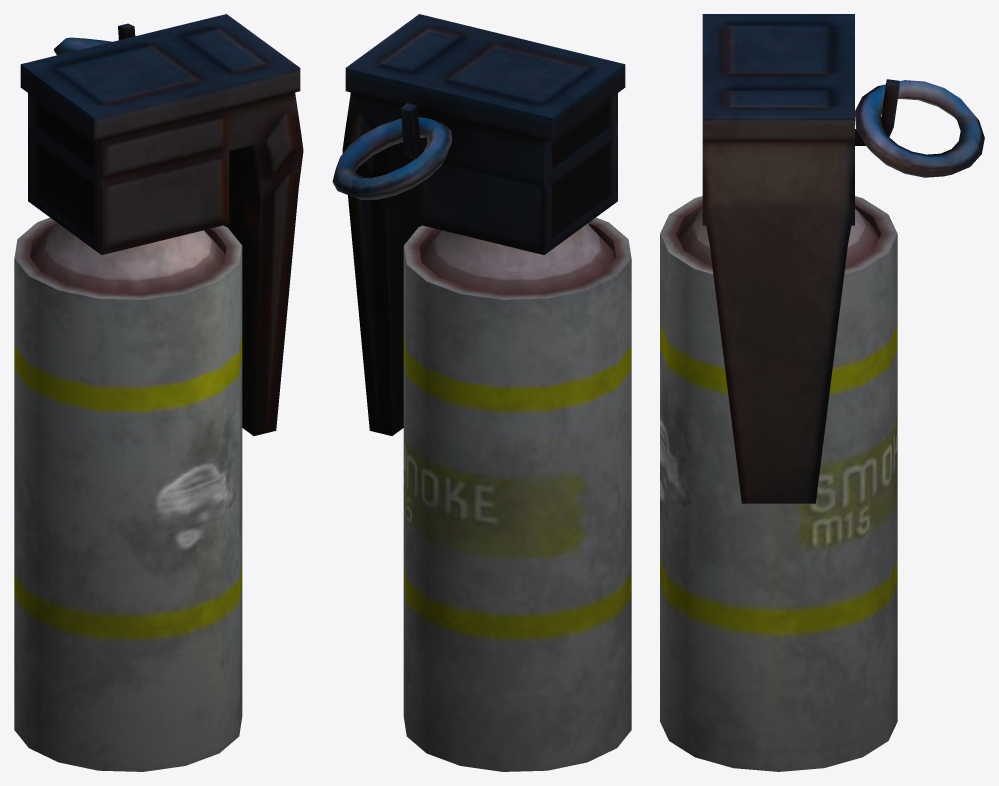
The model's file is bunker47-prop-smoke_low.glb.
3 views of the same model, side by side, from view 1: azimuth 30°, elevation 25°; view 2: azimuth 150°, elevation 25°; view 3: azimuth 270°, elevation 25° (orthographic). The views are drawn at different scales.
Parts seen in each view (by area): view 1: smoke_low, smokehaut_low, incendiaryrond_low; view 2: smoke_low, smokehaut_low, incendiaryrond_low; view 3: smoke_low, smokehaut_low, incendiaryrond_low.
Part boxes in pixels (<box>): smoke_low: <box>14,217,242,771</box>; smokehaut_low: <box>20,14,303,435</box>; incendiaryrond_low: <box>54,37,112,55</box>; smoke_low: <box>403,217,631,771</box>; smokehaut_low: <box>342,14,625,435</box>; incendiaryrond_low: <box>332,117,451,199</box>; smoke_low: <box>660,196,897,771</box>; smokehaut_low: <box>702,14,899,503</box>; incendiaryrond_low: <box>855,80,984,177</box>.
Size of the model in its own units: 0.0623 by 0.1626 by 0.0712.
1 material, 1 textured.
